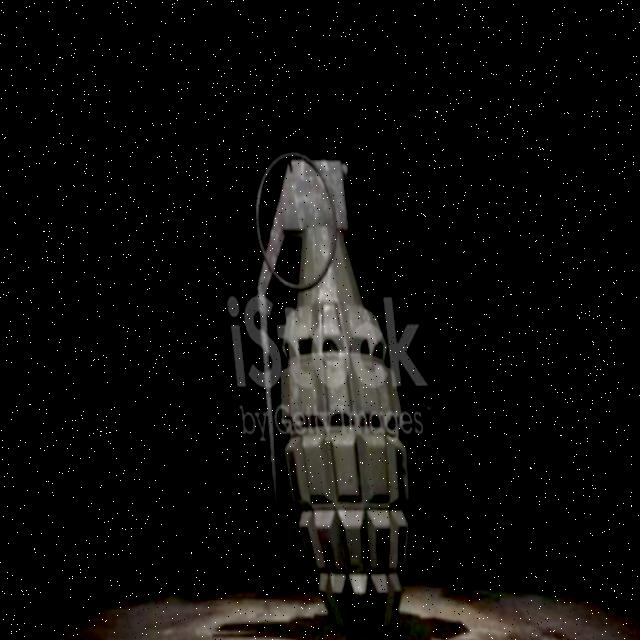grenade: (231, 127, 422, 631)
